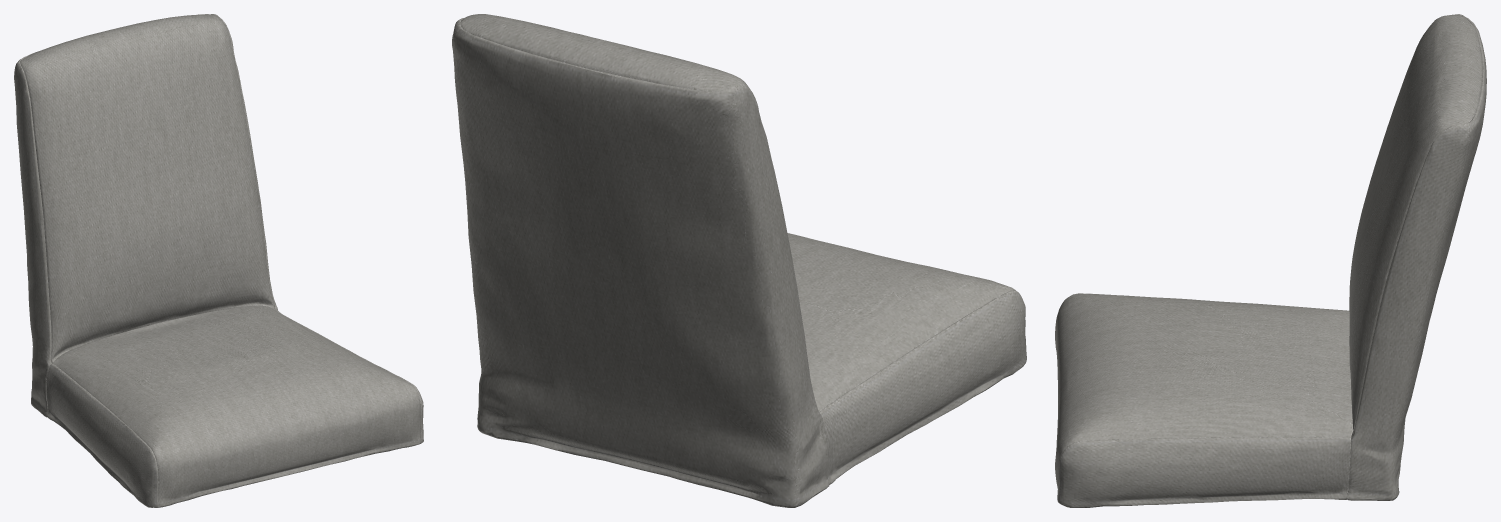
File: 39 - BERGMUND Chair cover - Orrsta light grey.glb
3 renders of one model, left to right at view 1: azimuth 30°, elevation 25°; view 2: azimuth 150°, elevation 25°; view 3: azimuth 270°, elevation 25°, orthographic. The views are drawn at different scales.
Visible parts, largest first — view 1: Mesh_0; view 2: Mesh_0; view 3: Mesh_0.
Part boxes in pixels (x1,y1,x2,y2): Mesh_0: (14,14,423,507); Mesh_0: (452,14,1026,507); Mesh_0: (1055,14,1486,507).
Size of the model in its own units: 0.5343 by 0.5911 by 0.6145.
Materials: 1 (1 with a texture image).
